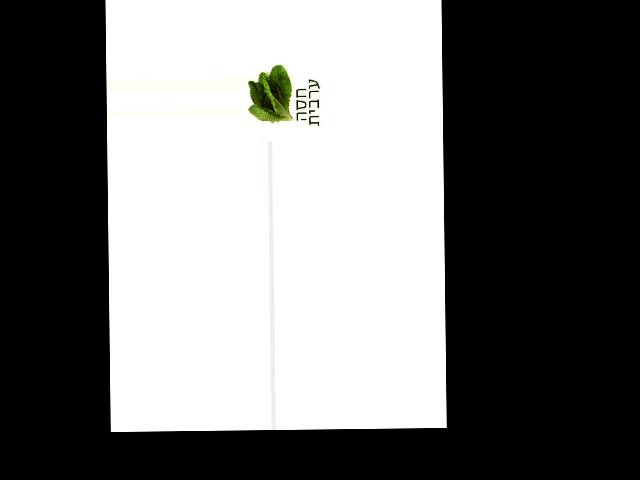lettuce: (248, 64, 297, 126)
